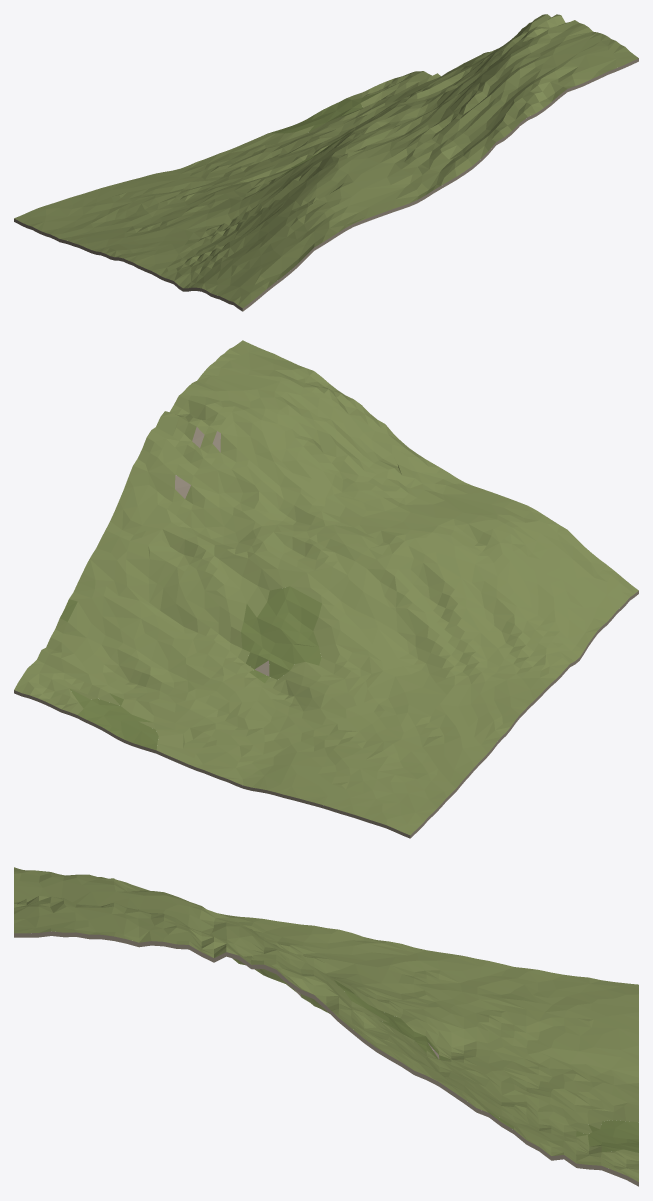
The model's file is parca_+4_-6-uzak.glb.
3 views of the same model, one above another, from view 1: azimuth 30°, elevation 25°; view 2: azimuth 150°, elevation 25°; view 3: azimuth 270°, elevation 25° (orthographic). The views are drawn at different scales.
Visible parts, largest first — view 1: parca_+4_-6_arazi_uzak; view 2: parca_+4_-6_arazi_uzak; view 3: parca_+4_-6_arazi_uzak.
Part boxes in pixels (bbox=[...]): parca_+4_-6_arazi_uzak: bbox=[14, 14, 638, 311]; parca_+4_-6_arazi_uzak: bbox=[14, 340, 638, 838]; parca_+4_-6_arazi_uzak: bbox=[14, 867, 638, 1186].
Size of the model in its own units: 1000 by 568 by 1000.
